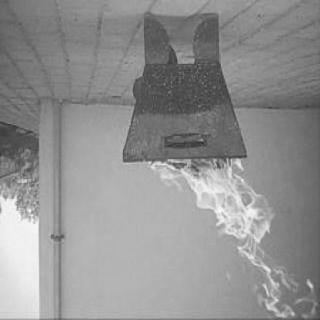Fire: (147, 158, 317, 314)
